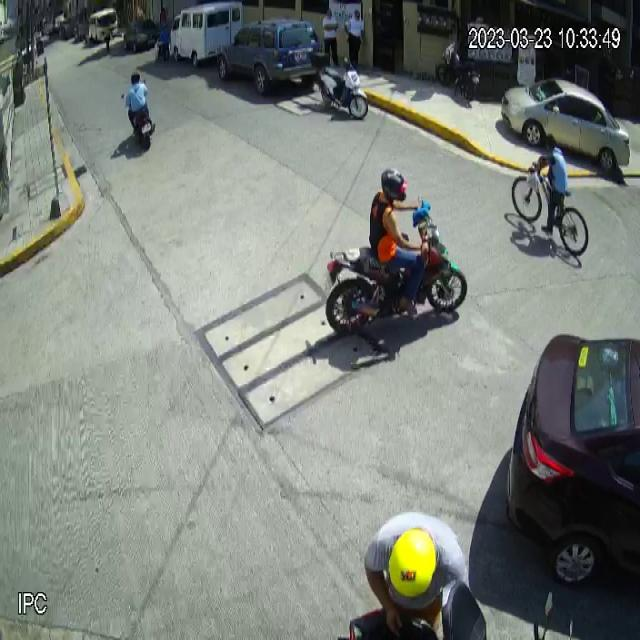Car: (505, 332, 640, 584), (501, 77, 632, 172), (216, 18, 322, 96)
Motorcycle: (326, 195, 469, 338), (311, 51, 370, 120)
Van: (170, 1, 244, 70)
